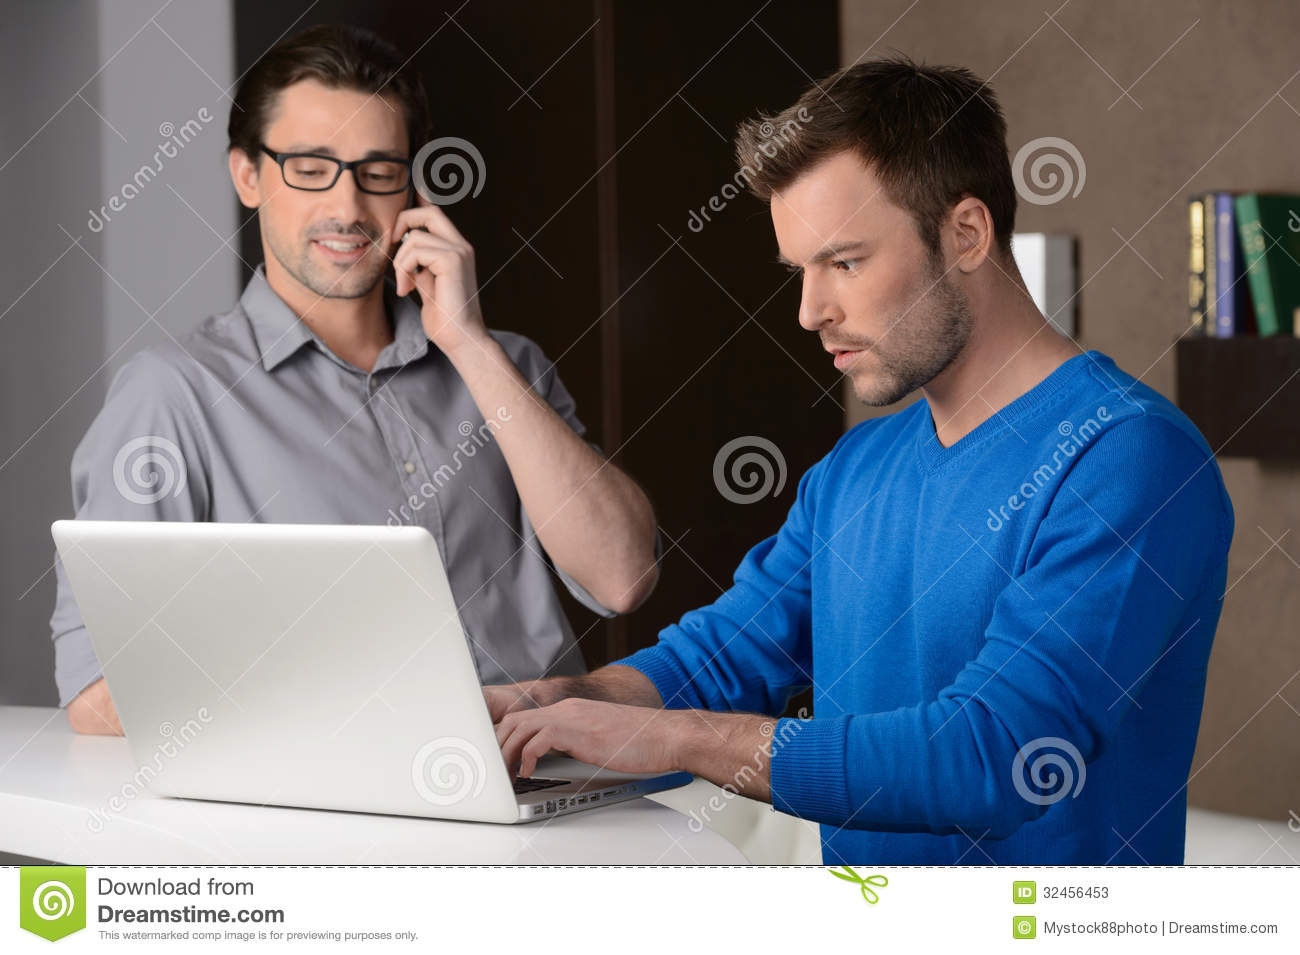talk: (267, 137, 488, 350)
